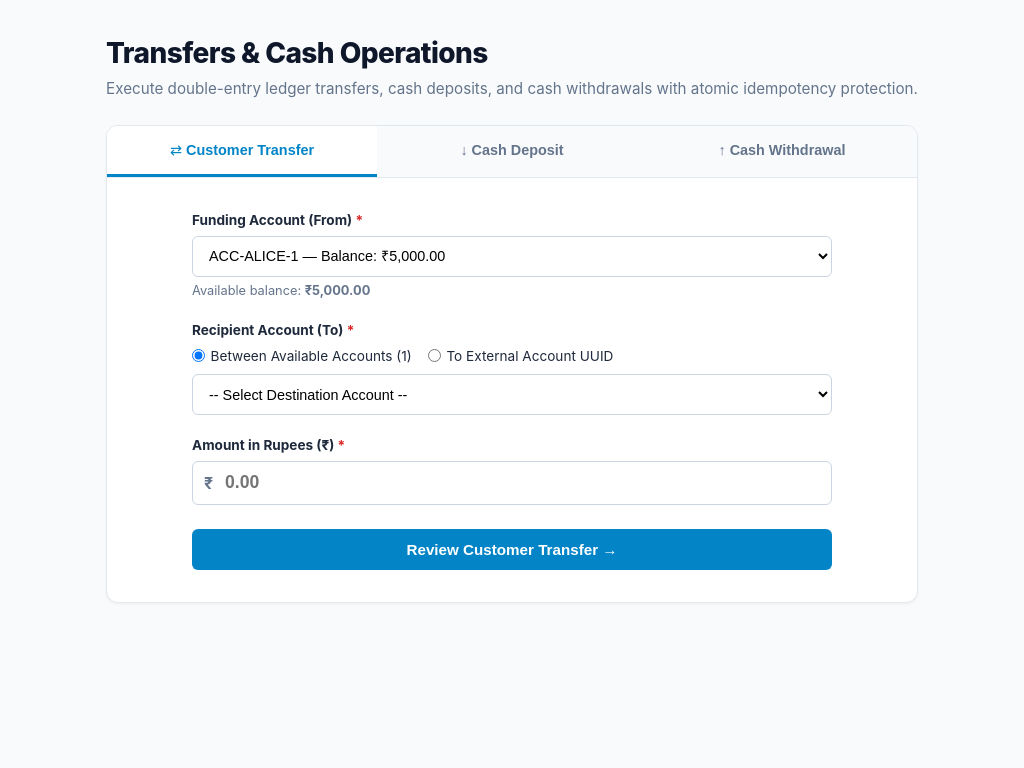
TransfersPage Component Integration › preserves exact idempotency key and locks form on ambiguous network failure
expect the dropdown with test id "transfer-source-select" is shown: met, box [192, 236, 832, 277]
Select "ACC-ALICE-2 (Customer Account)" in the dropdown with test id "transfer-dest-select": (512, 394) [192, 374, 832, 415]
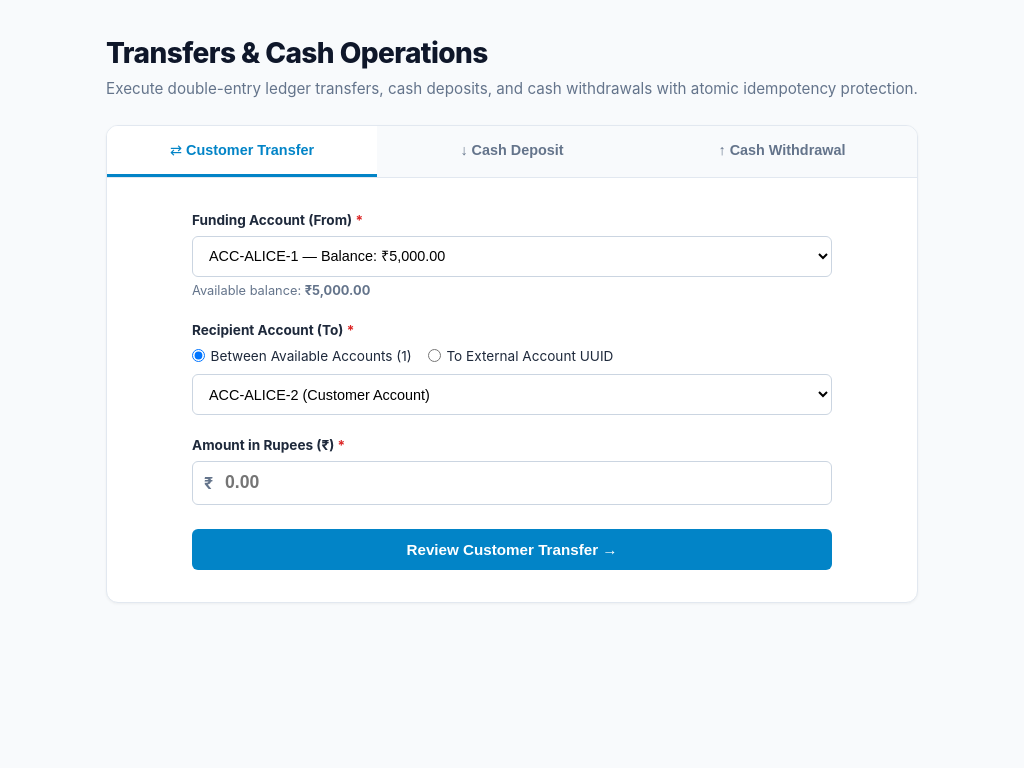
In the field with test id "transfer-amount-input": (512, 483) [192, 461, 832, 505], type "500"
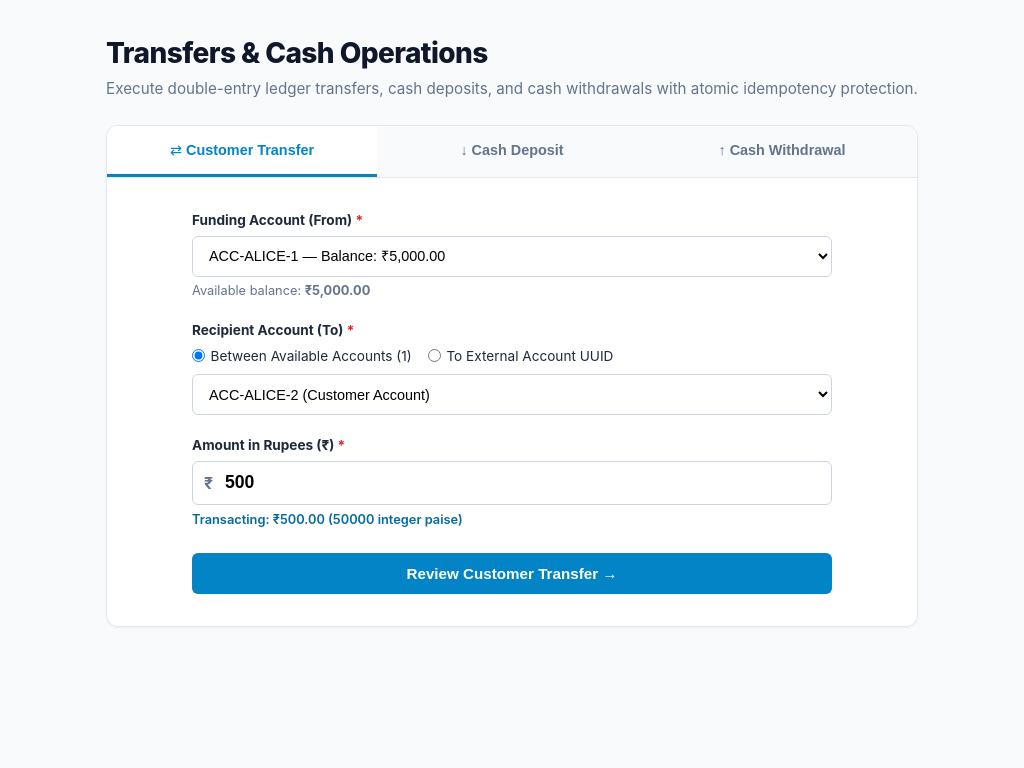
Click the button with test id "transfer-submit-btn": (512, 574) [192, 554, 832, 594]
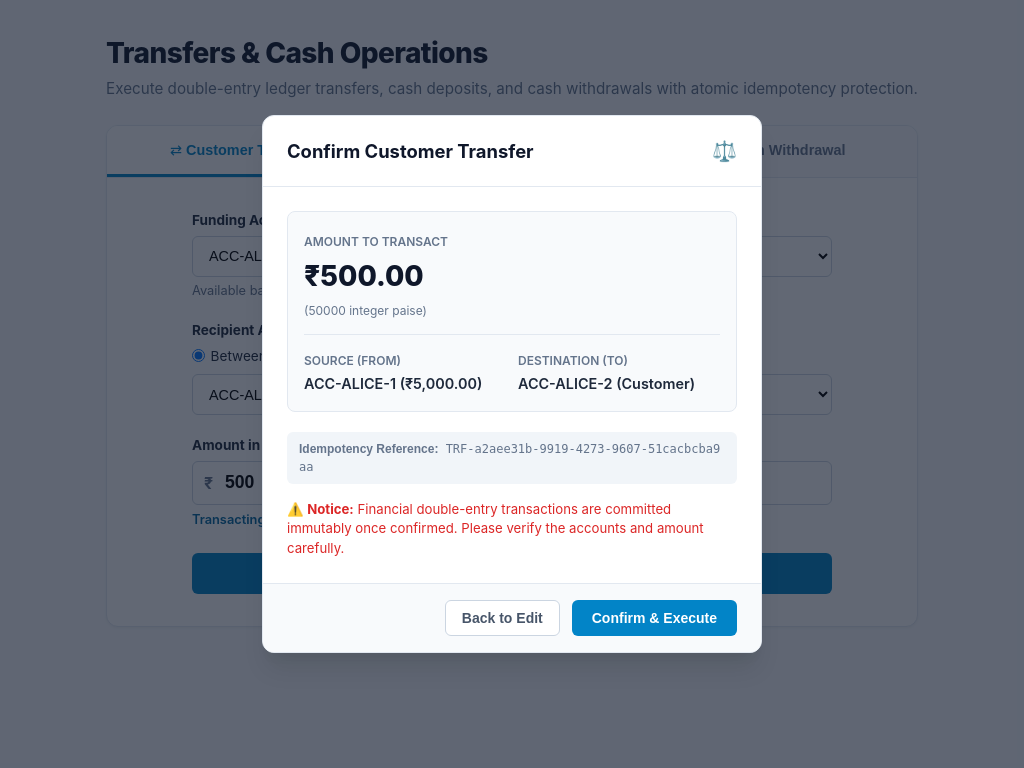
expect the button with test id "modal-confirm-btn" is shown: met
Click the button with test id "modal-confirm-btn": (654, 618) [572, 600, 737, 636]
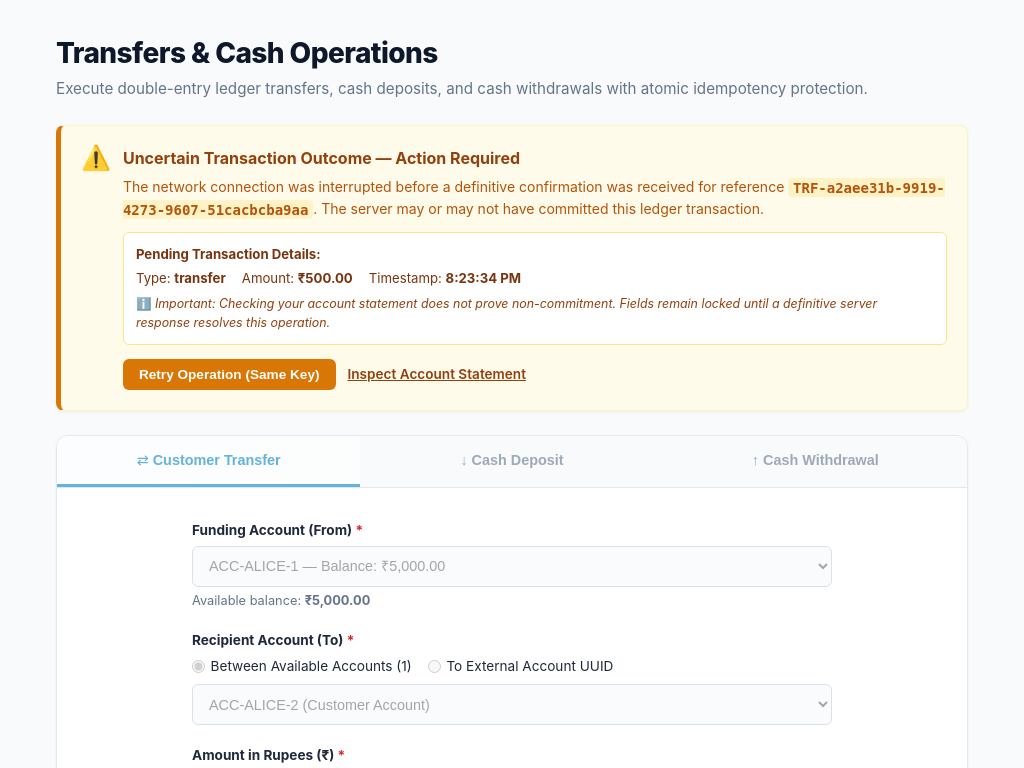
expect the message with test id "pending-operation-banner" is shown: met, box [56, 125, 968, 411]
expect the heading "Uncertain Transaction Outcome — Action Required" is shown: met, box [123, 148, 520, 168]
expect the dropdown with test id "transfer-source-select" is disabled: met, box [192, 546, 832, 587]
// Click "Retry Operation (Same Key)"
Click the button with test id "retry-same-key-btn": (229, 374) [123, 359, 336, 390]
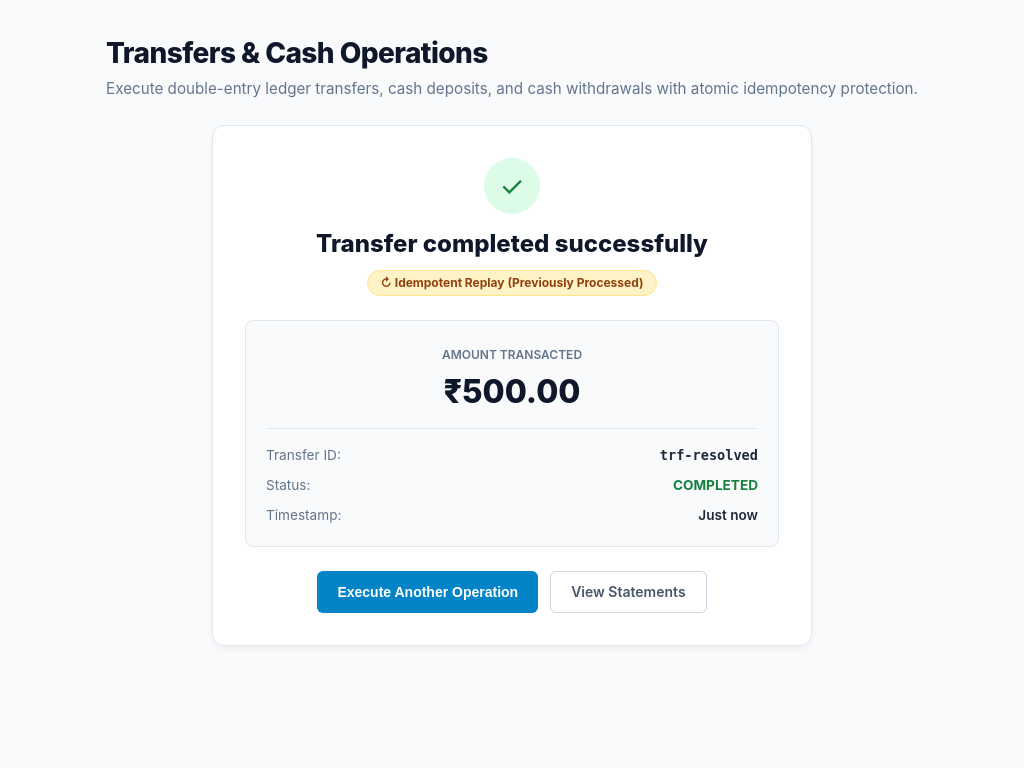
expect the element with test id "transaction-receipt" is shown: met, box [212, 125, 812, 646]
